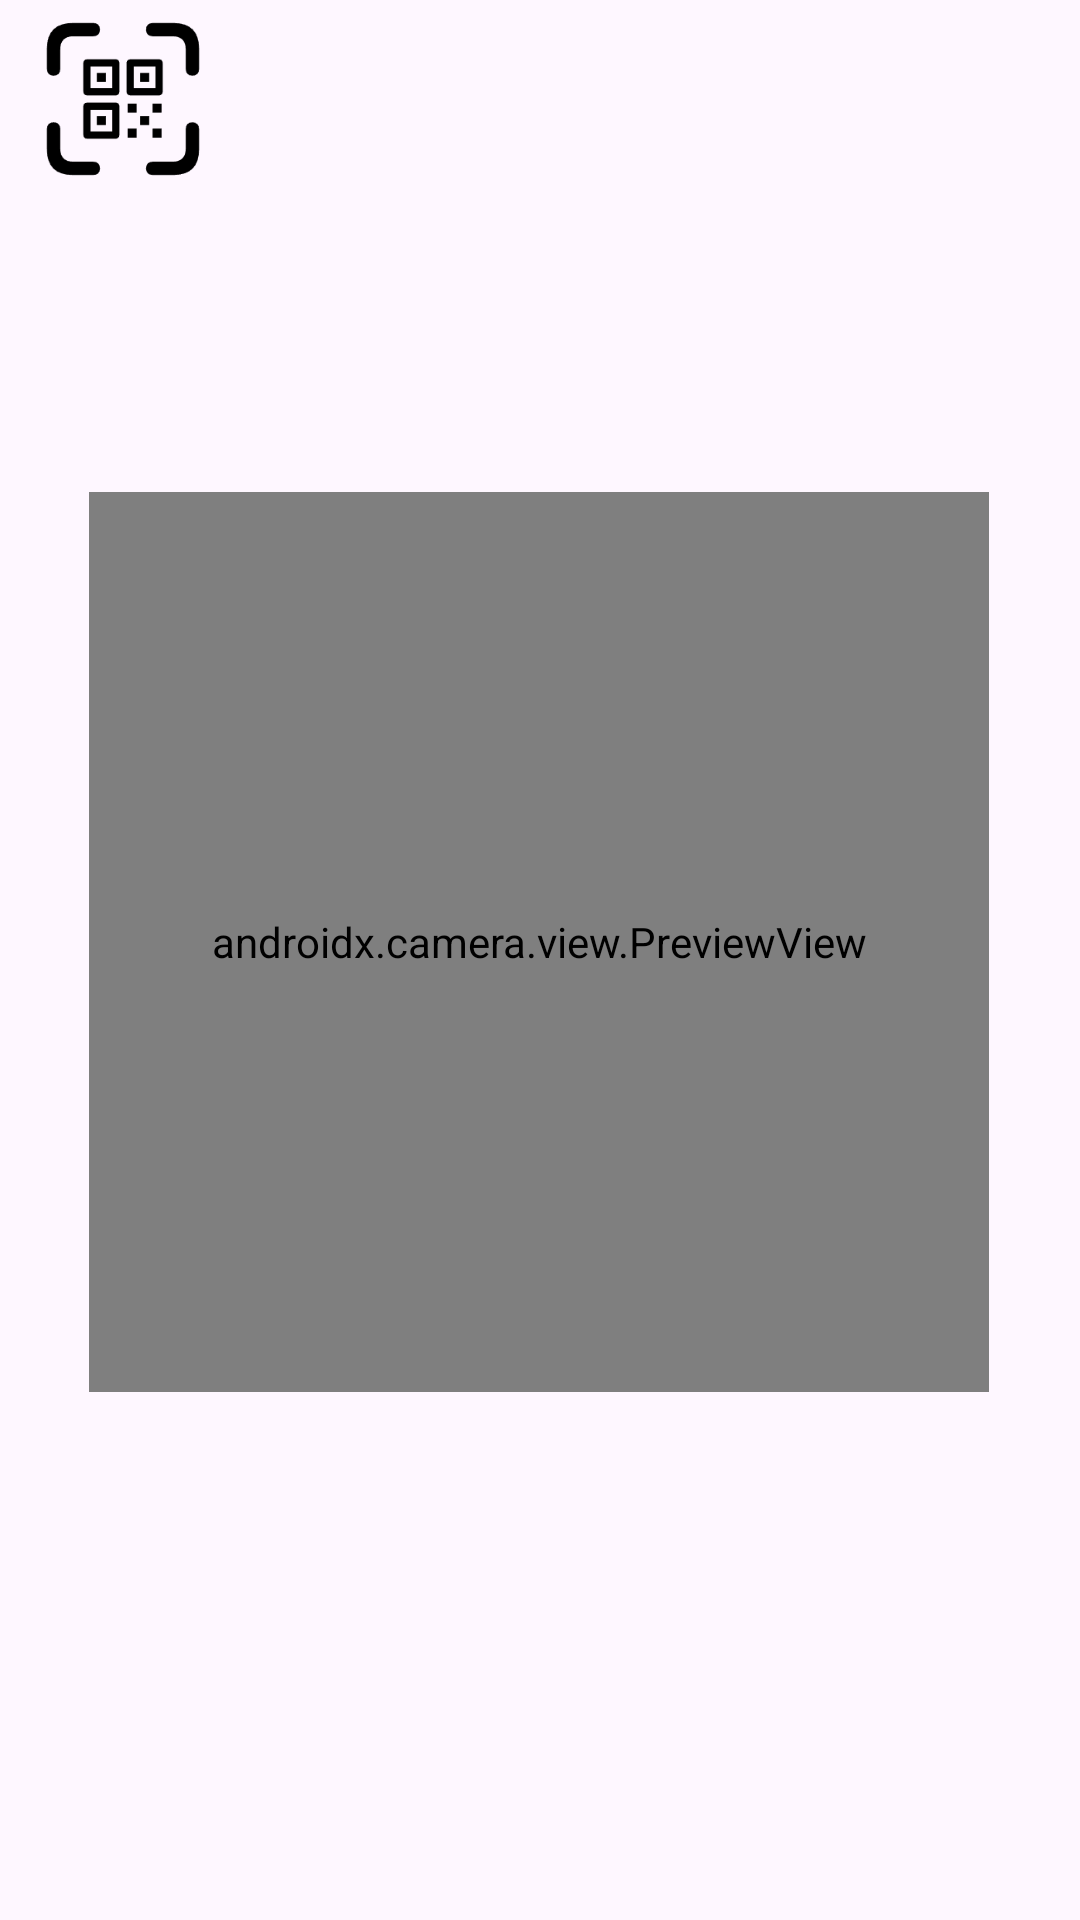

Screen size 1080*1920. Icon name, then its box in pixels as (x1, y1, x2, y2):
scan: (46, 22, 200, 176)
